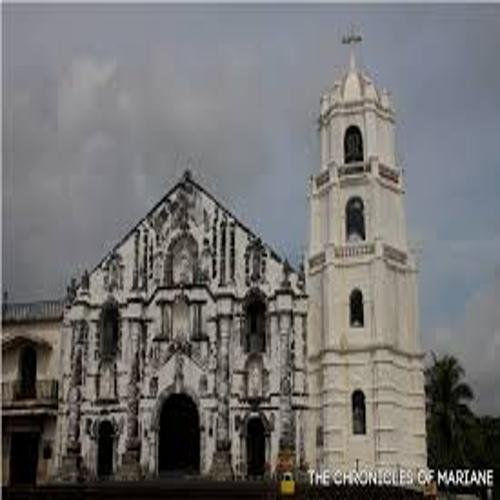Daraga Church: (57, 27, 431, 488)
